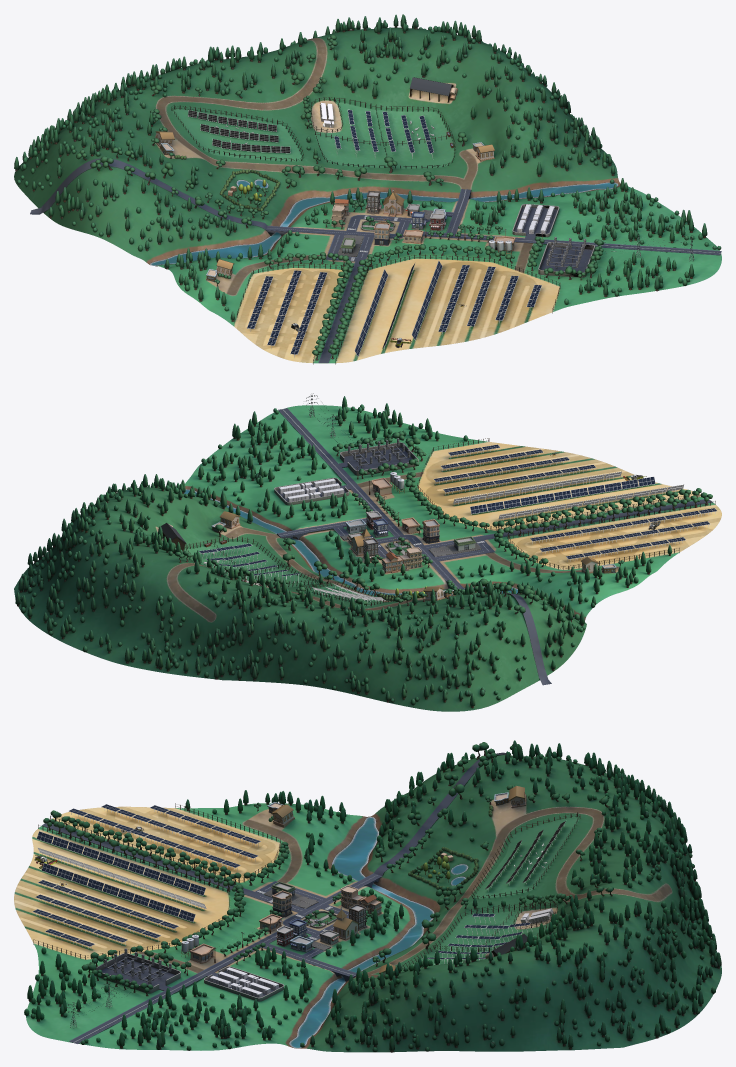
File: terrain_v23.glb
The picture shows the model from 3 angles, top to bottom: view 1: azimuth 30°, elevation 25°; view 2: azimuth 150°, elevation 25°; view 3: azimuth 270°, elevation 25°; orthographic projection. The views are drawn at different scales.
Visible parts, largest first — view 1: ground, forest, trees, roads, houses, water, fences, power-grid, batteries, ilot-de-vie, PV_Tracker_Cath; view 2: ground, forest, trees, roads, houses, fences, PV_Tracker_Cath.001, water, power-grid, batteries, PV_Tracker_Cath, PV_Tracker_Cath.002 (+1 smaller); view 3: ground, forest, trees, roads, houses, water, fences, PV_Tracker_Cath, batteries, PV_Tracker_Cath.002, power-grid, ilot-de-vie (+2 smaller).
Part boxes in pixels (<box>): ground: <box>14,27,721,363</box>; forest: <box>14,14,721,321</box>; trees: <box>76,34,604,360</box>; roads: <box>30,158,721,362</box>; houses: <box>155,77,515,281</box>; water: <box>150,179,618,265</box>; fences: <box>171,97,560,364</box>; power-grid: <box>425,131,694,269</box>; batteries: <box>320,102,554,233</box>; ilot-de-vie: <box>174,155,280,211</box>; PV_Tracker_Cath: <box>354,269,387,356</box>; ground: <box>14,405,721,711</box>; forest: <box>15,396,671,707</box>; trees: <box>175,431,712,614</box>; roads: <box>274,408,712,685</box>; houses: <box>161,472,616,600</box>; fences: <box>184,438,715,606</box>; PV_Tracker_Cath.001: <box>470,476,655,514</box>; water: <box>184,489,579,620</box>; power-grid: <box>205,393,410,547</box>; batteries: <box>242,478,344,585</box>; PV_Tracker_Cath: <box>498,484,683,519</box>; PV_Tracker_Cath.002: <box>453,471,621,503</box>; ground: <box>14,754,721,1052</box>; forest: <box>24,740,721,1052</box>; trees: <box>43,742,613,996</box>; roads: <box>42,752,505,1043</box>; houses: <box>181,785,527,977</box>; water: <box>289,817,468,1048</box>; fences: <box>33,803,580,970</box>; PV_Tracker_Cath: <box>36,831,205,895</box>; batteries: <box>210,908,553,997</box>; PV_Tracker_Cath.002: <box>41,863,195,921</box>; power-grid: <box>66,918,271,1028</box>; ilot-de-vie: <box>408,805,493,890</box>.
Size of the model in its own units: 48.86 by 8.83 by 54.42.
17 materials, 15 textured.
